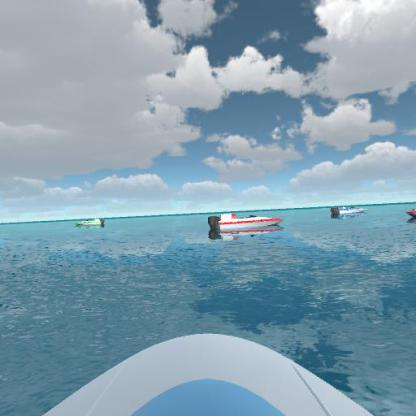usv0: (74, 215, 108, 228)
usv1: (325, 200, 368, 219)
usv3: (206, 210, 284, 239), (405, 202, 415, 223)
